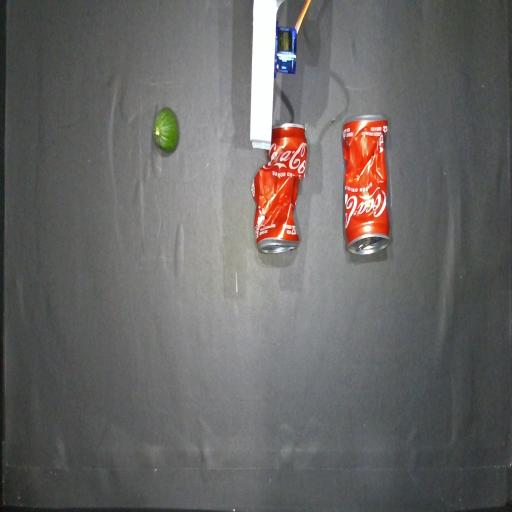higo: (153, 107, 179, 152)
lata_defectuoso: (251, 123, 307, 253), (343, 114, 390, 254)
